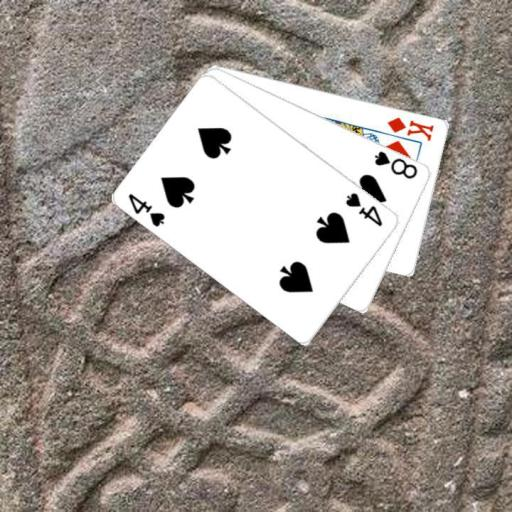4S: (343, 189, 385, 228), (125, 190, 167, 229)
8S: (371, 147, 420, 181)
KD: (384, 114, 436, 142)
